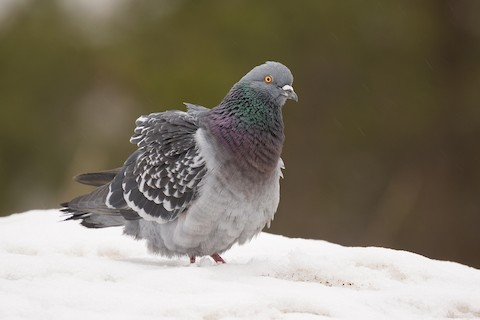pigeon: (59, 57, 303, 267)
